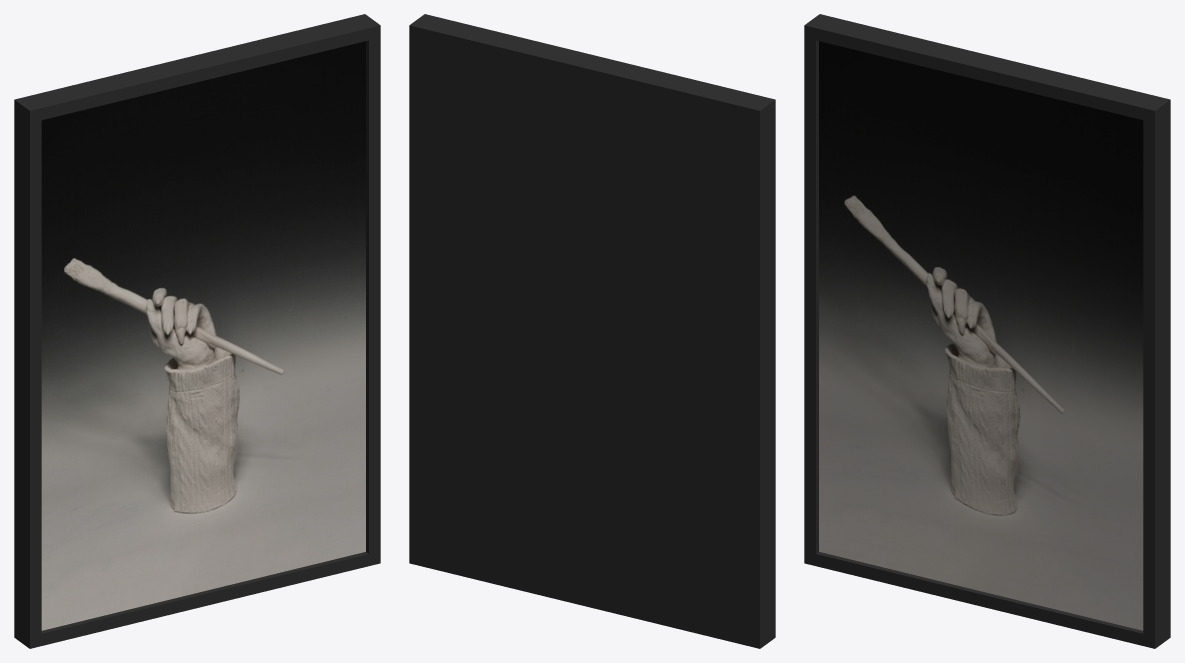
The model's file is ART26_IMG_4122.fbx.
The picture shows the model from 3 angles, left to right: view 1: azimuth 30°, elevation 25°; view 2: azimuth 150°, elevation 25°; view 3: azimuth 330°, elevation 25°; orthographic projection.
Visible parts, largest first — view 1: ART26_IMG_4122; view 2: ART26_IMG_4122; view 3: ART26_IMG_4122.
Boxes of the visible parts, box(x1,y1,x2,y2) form: ART26_IMG_4122: box(14, 14, 380, 648); ART26_IMG_4122: box(409, 14, 775, 648); ART26_IMG_4122: box(804, 14, 1170, 648).
Bounding box in the file's own units: 75.05 × 5.75 × 110.
2 materials, 1 textured.
